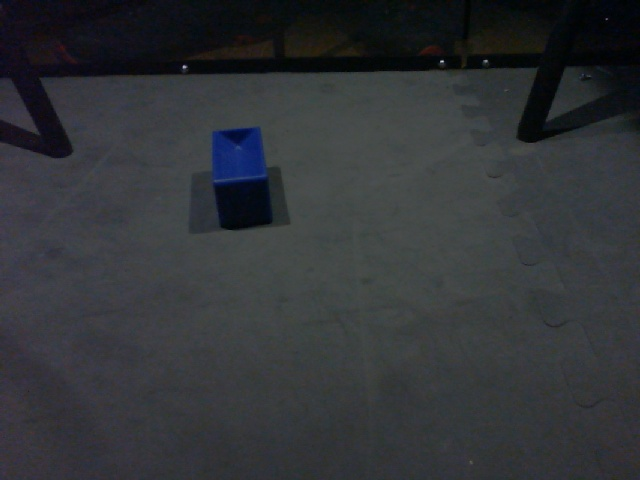BlueSample: (205, 123, 275, 225)
